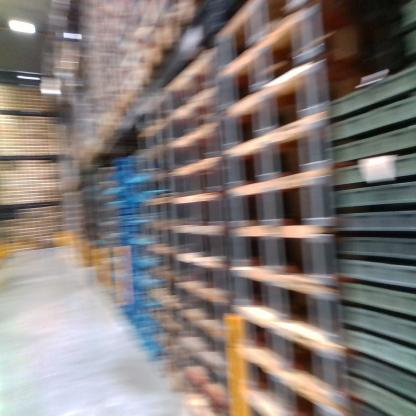pallet: (162, 0, 207, 58)
